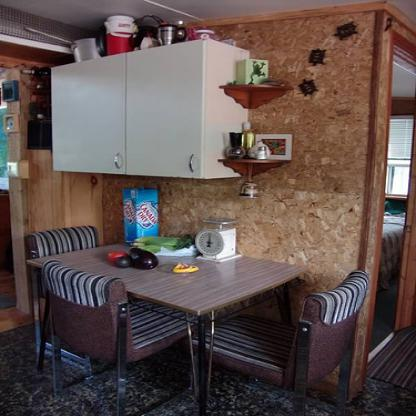chair: (187, 268, 370, 415), (41, 258, 198, 415), (22, 224, 101, 375)
diningtable: (26, 236, 291, 415)
